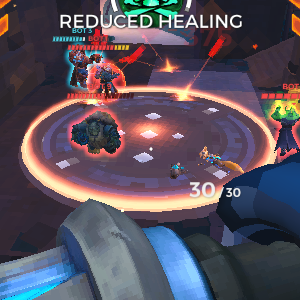model: (78, 107, 118, 162), (273, 101, 293, 160), (95, 61, 119, 104)
